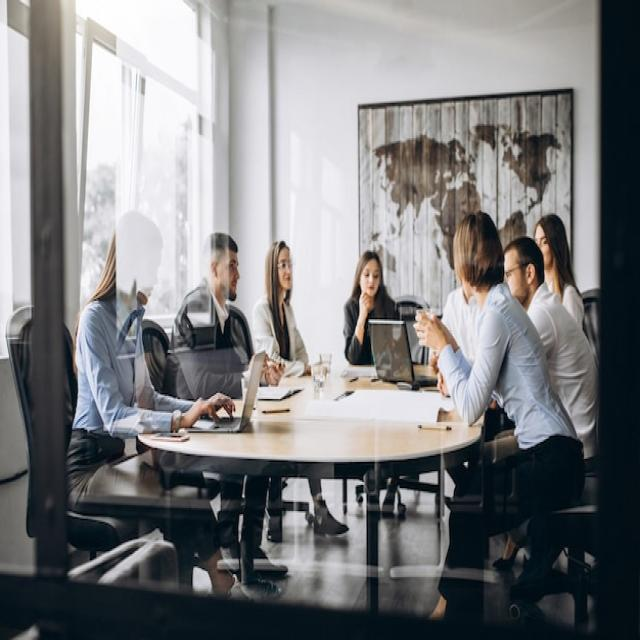adult: (430, 210, 582, 631), (65, 218, 234, 529), (502, 235, 594, 471), (172, 233, 250, 367), (255, 241, 313, 368), (342, 246, 396, 372)
